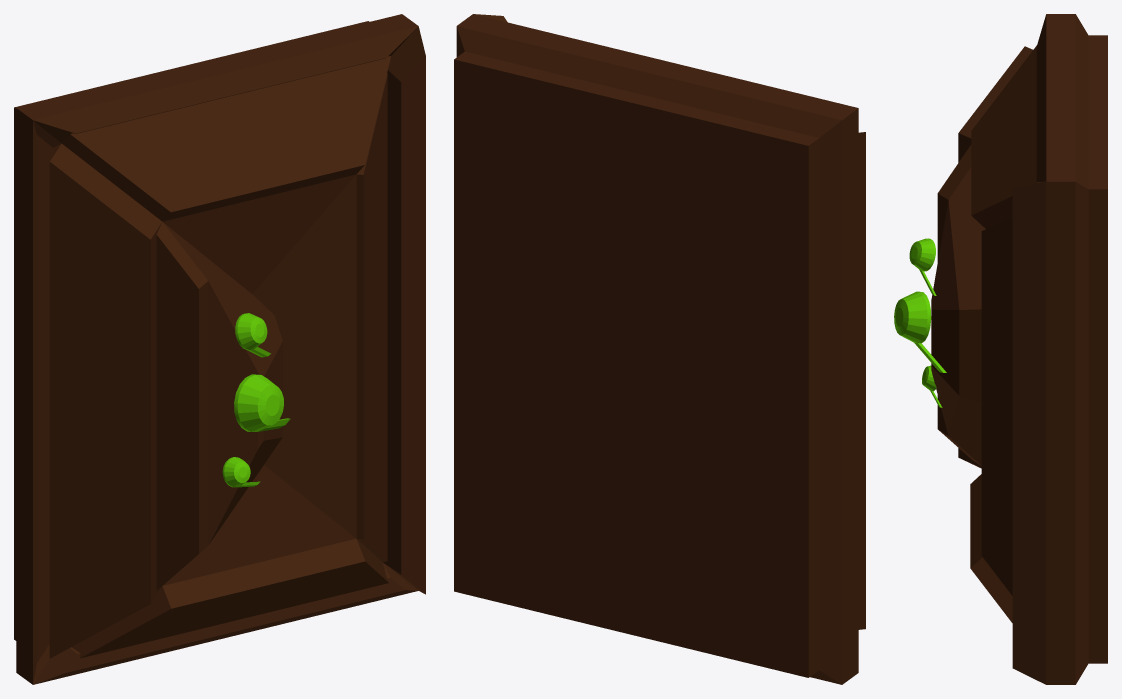
The model's file is door.FBX.
3 renders of one model, left to right at view 1: azimuth 30°, elevation 25°; view 2: azimuth 150°, elevation 25°; view 3: azimuth 270°, elevation 25°, orthographic. The views are drawn at different scales.
Visible parts, largest first — view 1: Box001; view 2: Box001; view 3: Box001.
Part boxes in pixels (bbox=[...]): Box001: bbox=[14, 14, 425, 684]; Box001: bbox=[454, 14, 865, 684]; Box001: bbox=[894, 14, 1107, 684].
Size of the model in its own units: 16.74 by 23.42 by 9.02.
